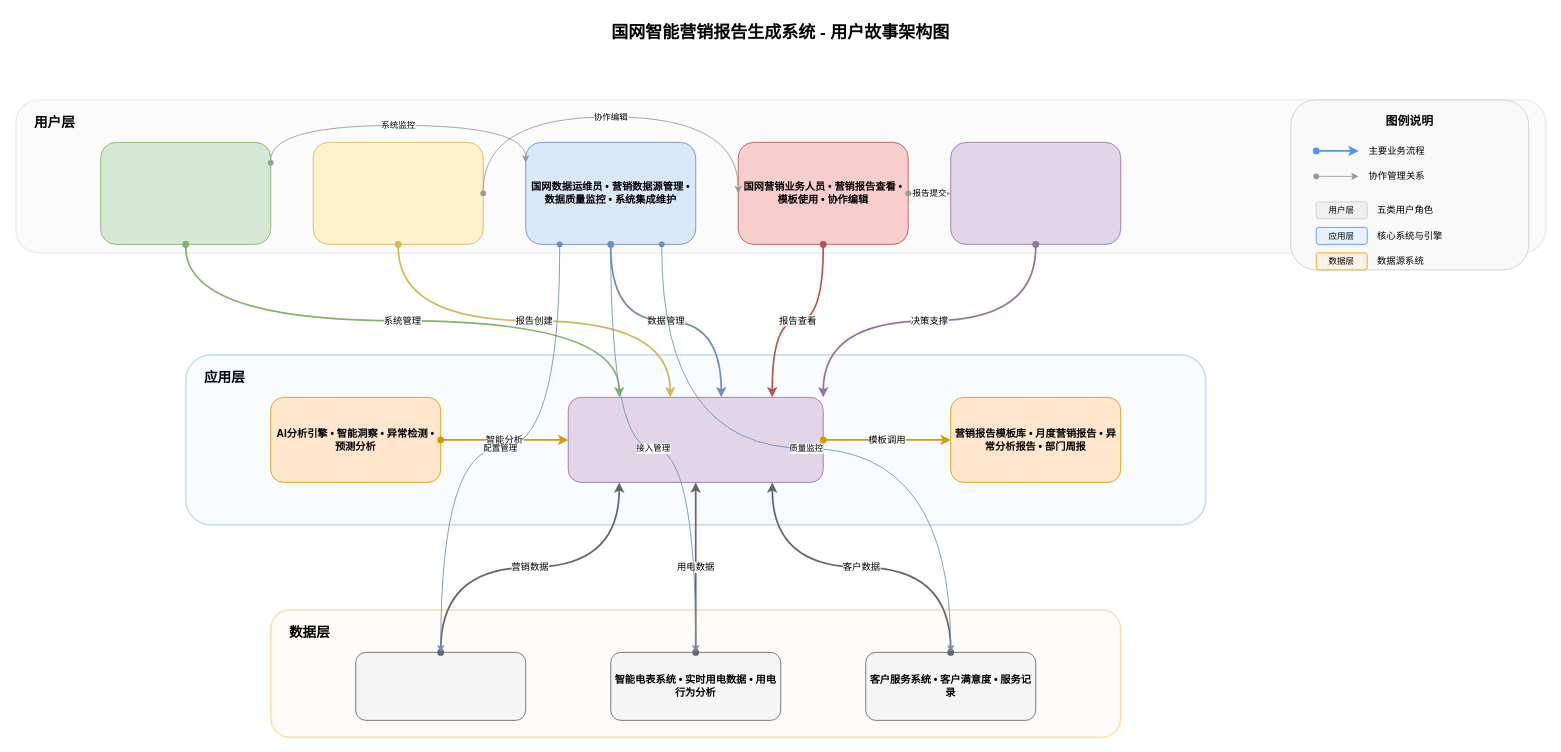
Some shapes in this 1561 by 752 pixel diagram are drawn without their labels. The shapes that lost their labels are listed below. From the top down, each one's box as (x1, y1, x2, y2) in pixels, then its label:
(100, 142, 271, 244): 系统管理员 • 用户权限管理 • 系统监控维护 • 性能优化
(312, 142, 483, 244): 国网营销分析师 • AI辅助报告创建 • 营销指标分析 • 异常数据深度分析
(950, 142, 1121, 244): 国网营销管理决策者 • 战略决策支撑 • 营销驾驶舱监控 • 危机应对决策
(567, 397, 823, 482): 国网智能营销报告生成系统 核心业务处理平台
(355, 652, 526, 720): 营销2.0系统 • 用电量数据 • 客户信息 • 营销指标
